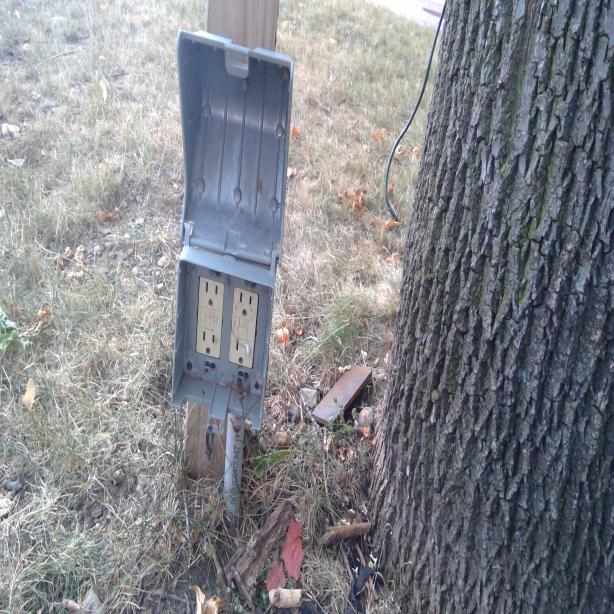typeb: (236, 288, 256, 320), (200, 280, 222, 309), (200, 326, 218, 356), (234, 340, 252, 366)
